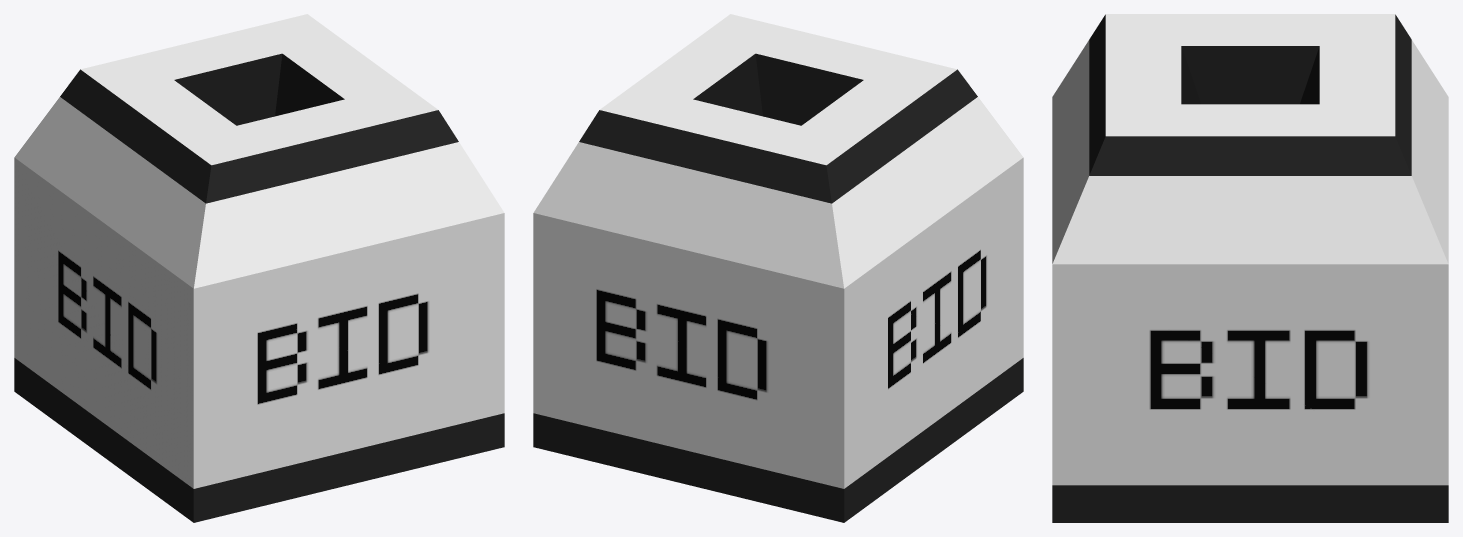
Rendered from BID.glb.
The picture shows the model from 3 angles, left to right: view 1: azimuth 30°, elevation 25°; view 2: azimuth 150°, elevation 25°; view 3: azimuth 270°, elevation 25°; orthographic projection. The views are drawn at different scales.
Visible parts, largest first — view 1: BID; view 2: BID; view 3: BID.
Boxes of the visible parts, x1,y1,x2,y2 form: BID: [14, 14, 504, 522]; BID: [533, 14, 1023, 522]; BID: [1052, 14, 1448, 522].
Size of the model in its own units: 0.96 by 0.9734 by 0.96.
Materials: 3 (1 with a texture image).
